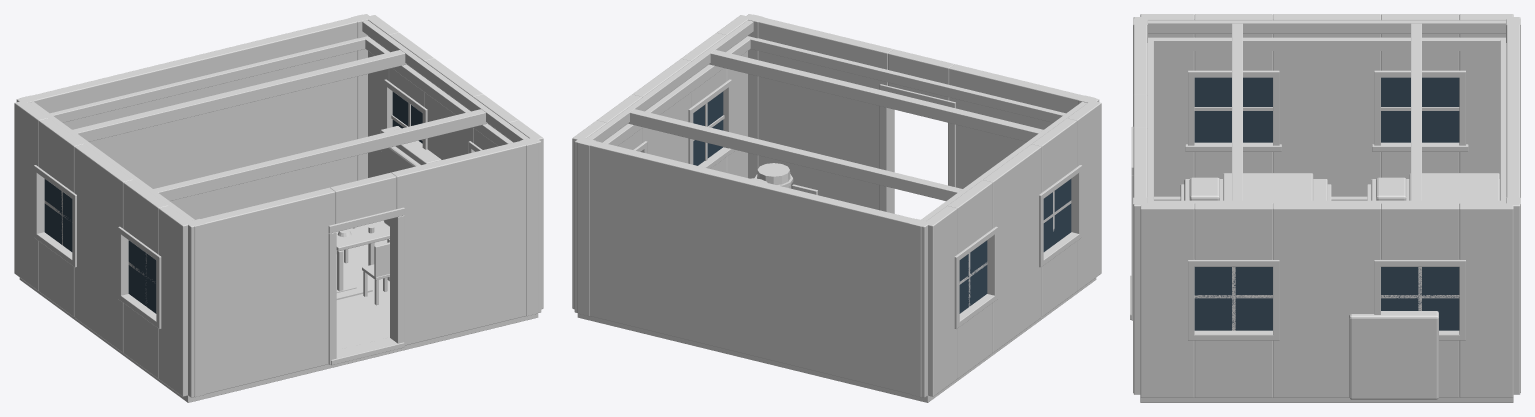
File: interior_inn_a.fbx
The picture shows the model from 3 angles, left to right: view 1: azimuth 30°, elevation 25°; view 2: azimuth 150°, elevation 25°; view 3: azimuth 270°, elevation 25°; orthographic projection. The views are drawn at different scales.
Visible parts, largest first — view 1: interior_inn_a; view 2: interior_inn_a; view 3: interior_inn_a.
Part boxes in pixels (x1,y1,x2,y2): interior_inn_a: [14, 14, 543, 402]; interior_inn_a: [572, 14, 1101, 402]; interior_inn_a: [1130, 14, 1520, 402].
Bounding box in the file's own units: 630 × 292 × 524.
